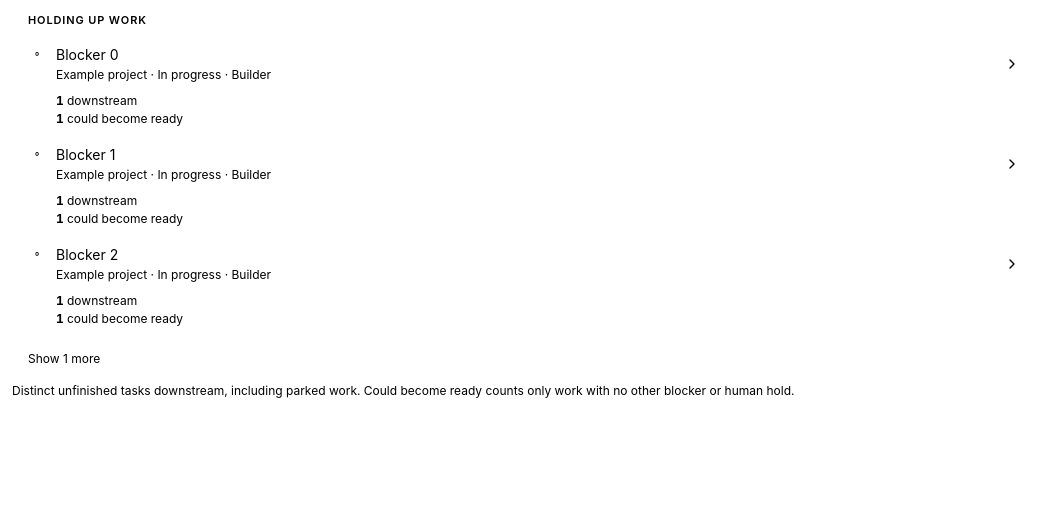
Test case: blocker impact section › shows separate counts, project, state, holder and an explicit project link, with more rows disclosed
Expected: the number of list items is 3, [20,36,1028,134]; [20,136,1028,234]; [20,236,1028,334]
Expected: the link "Blocker 0" shows "Example project · In progress · Builder", [20,36,1028,134]
Click the button "Show 1 more" at (64, 358), box [12,342,1036,374]
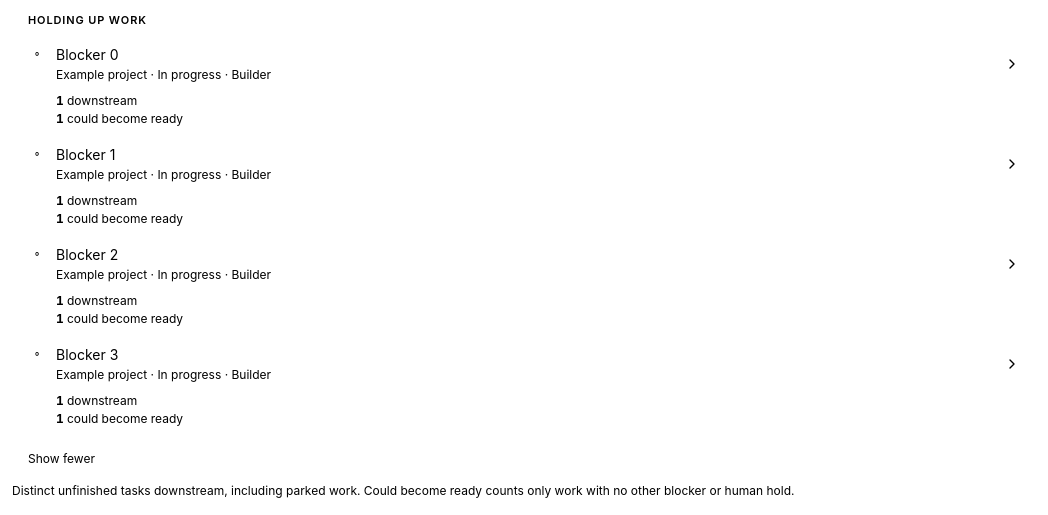
Expected: the number of buttons is 1, [12,442,1036,474]
Expected: the number of list items is 4, [20,36,1028,134]; [20,136,1028,234]; [20,236,1028,334]; [20,336,1028,434]
